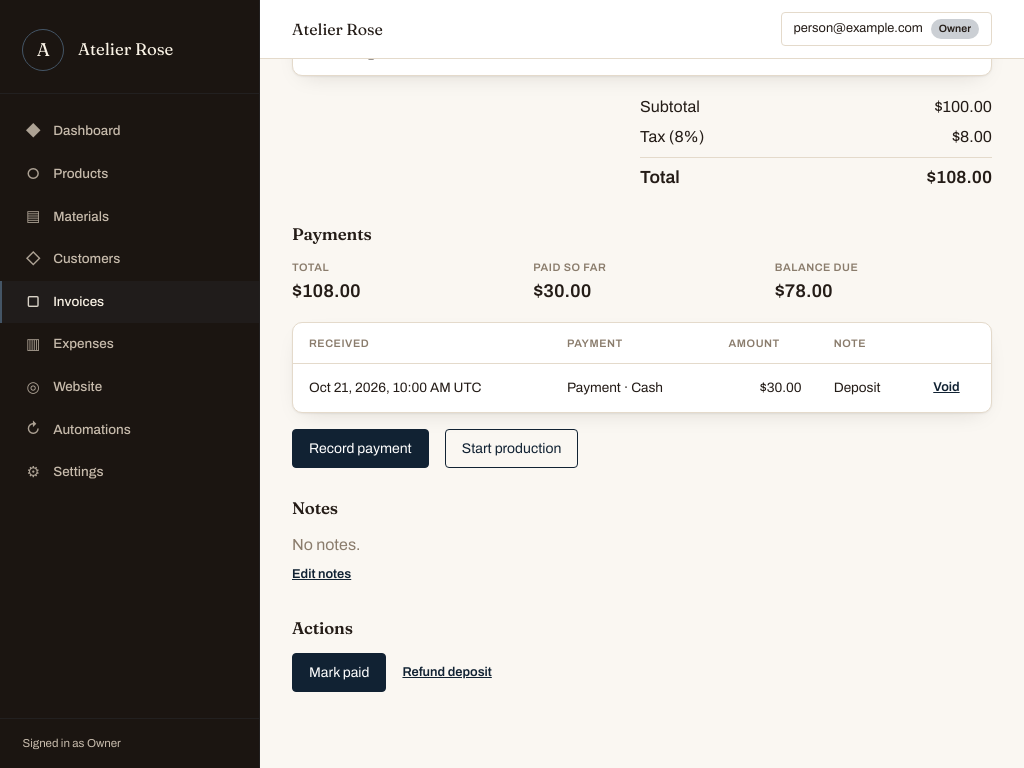
Test: an invoice's payments › the owner voids a mistaken payment; it stays listed, crossed out, and counts for nothing
(page scrolled)
What coordinates should you click on to do the following:
click the button with aria-label "Void the $30.00 payment"
I would click on:
 (946, 388)
Its box is [933, 375, 960, 401].
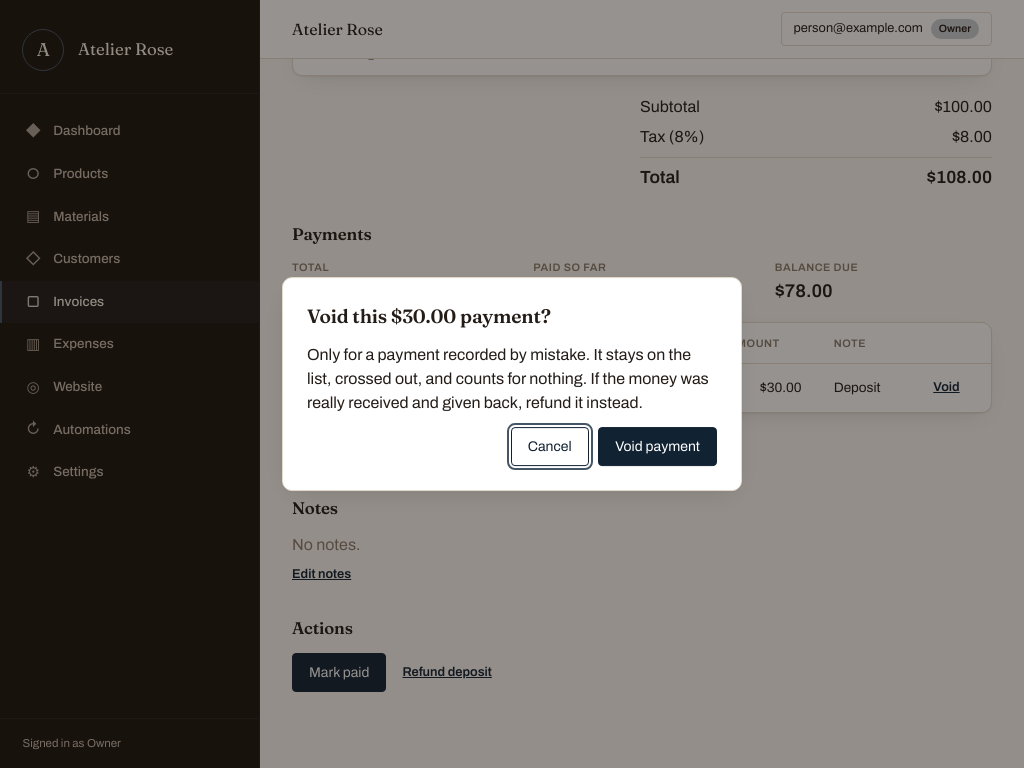
What coordinates should you click on to do the following:
click the button "Void payment"
I would click on:
 (658, 446)
Its box is [598, 427, 717, 466].
(page scrolled)
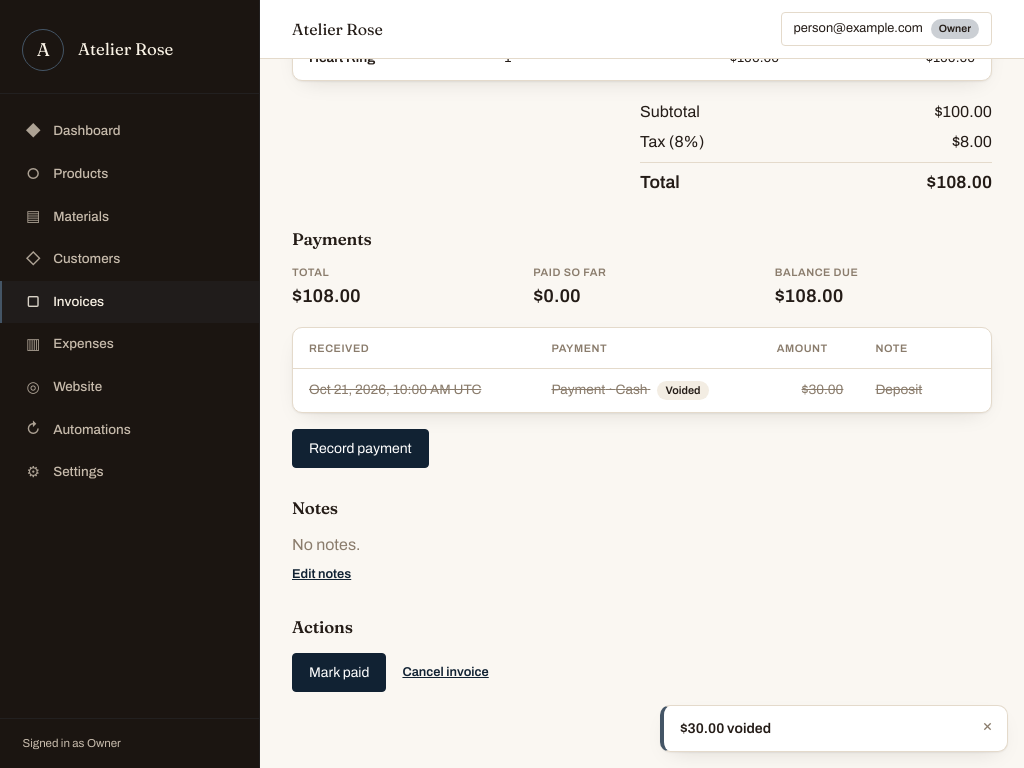
Expected: the text "$30.00 voided" is shown, [680, 721, 771, 736]
Expected: the text "$0.00" is shown, [533, 286, 581, 306]
